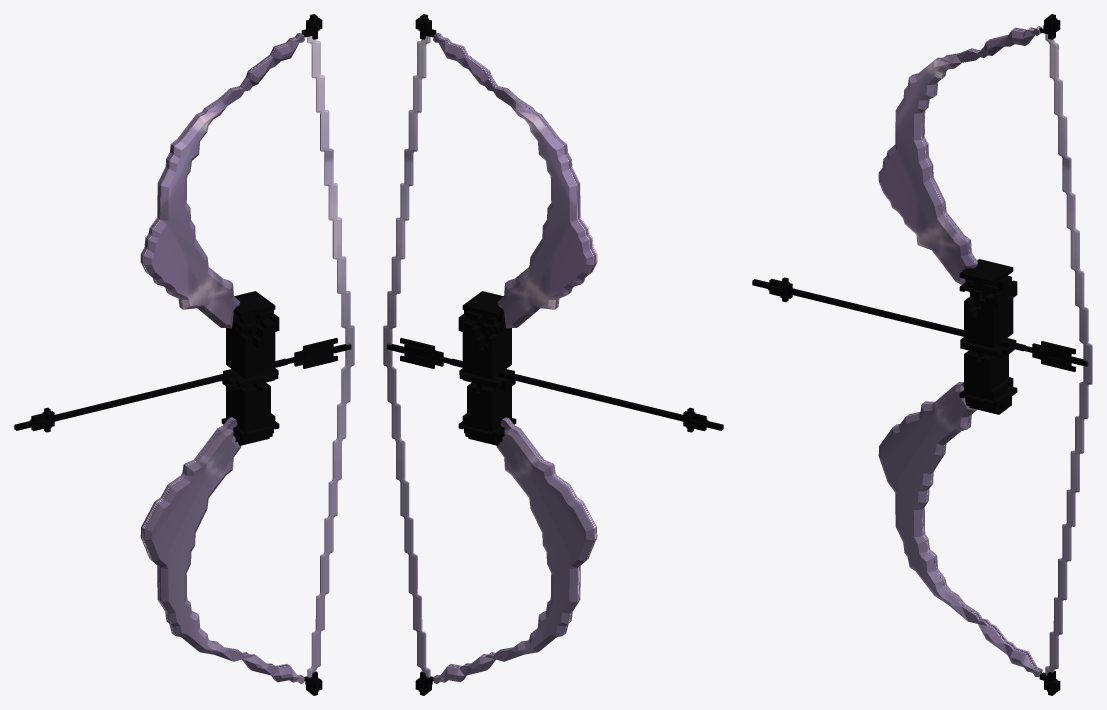
Rendered from moon_bow_pulling_0.obj.
3 renders of one model, left to right at view 1: azimuth 30°, elevation 25°; view 2: azimuth 150°, elevation 25°; view 3: azimuth 330°, elevation 25°, orthographic.
Visible parts, largest first — view 1: moon_bow_pulling_0; view 2: moon_bow_pulling_0; view 3: moon_bow_pulling_0.
Part boxes in pixels (box(x1,y1,x2,y2)): moon_bow_pulling_0: box(14, 14, 354, 695); moon_bow_pulling_0: box(383, 14, 723, 695); moon_bow_pulling_0: box(752, 14, 1092, 695).
Size of the model in its own units: 0.8333 by 1.59 by 0.0833.
